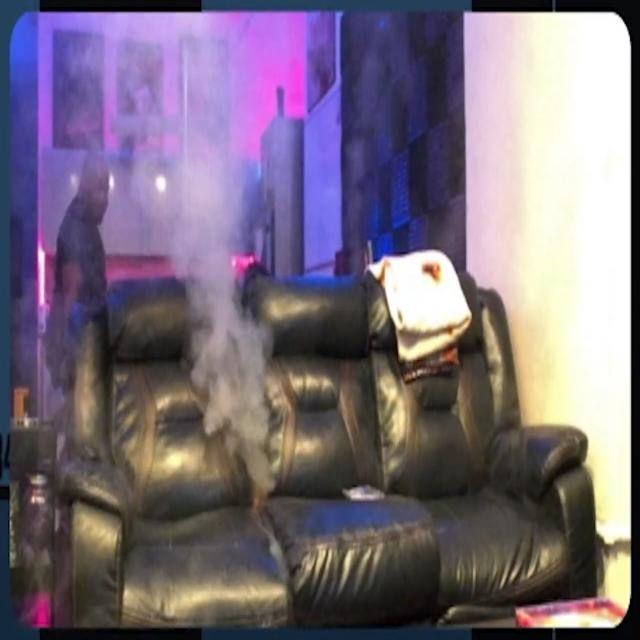Smoke: (166, 156, 290, 494)
